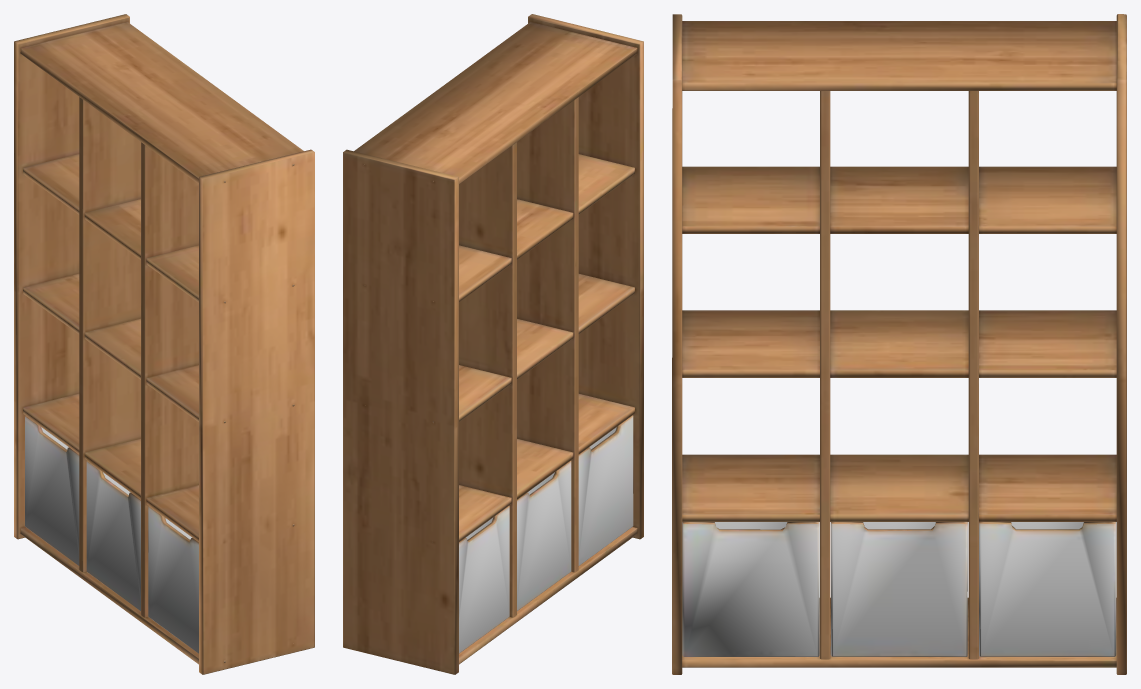
The model's file is cube-shelf.glb.
The picture shows the model from 3 angles, left to right: view 1: azimuth 30°, elevation 25°; view 2: azimuth 150°, elevation 25°; view 3: azimuth 270°, elevation 25°; orthographic projection. The views are drawn at different scales.
Visible parts, largest first — view 1: wooden_display_shelves_01; view 2: wooden_display_shelves_01; view 3: wooden_display_shelves_01.
Part boxes in pixels (bbox=[...]): wooden_display_shelves_01: bbox=[14, 14, 314, 674]; wooden_display_shelves_01: bbox=[343, 14, 643, 674]; wooden_display_shelves_01: bbox=[672, 14, 1126, 674].
Bounding box in the file's own units: 0.368 × 1.55 × 1.08.
1 material, 1 textured.
